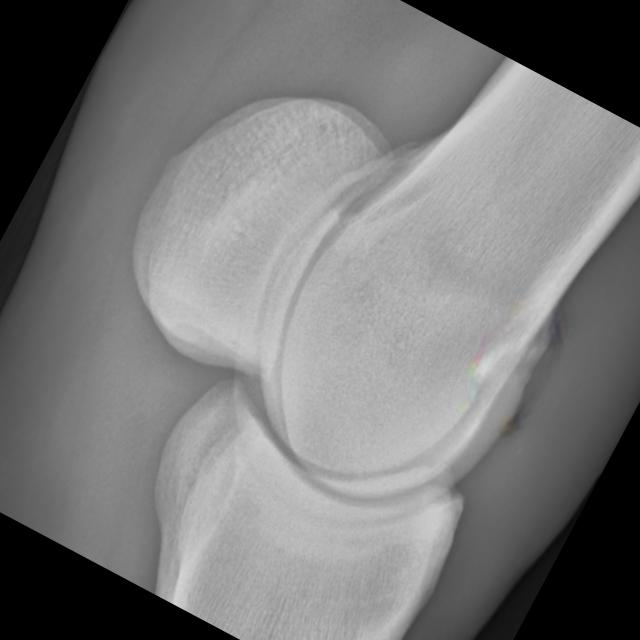bone remodeling: (317, 169, 640, 595)
